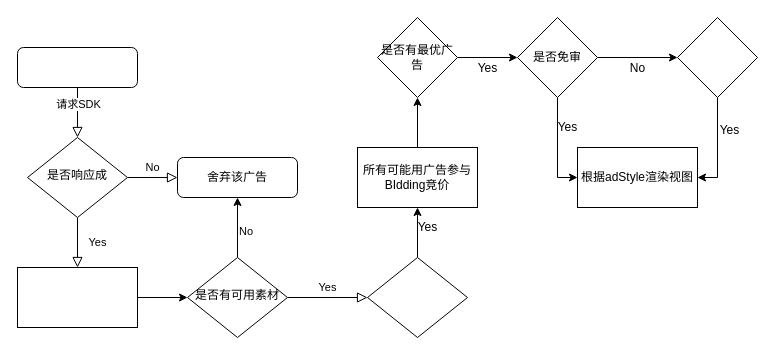
Some shapes in this 775 by 355 pixel diagram are drawn without their labels. The shapes that lost their labels are listed below. From the top down, each one's centre as x and y in pixels, then its label:
point (77, 67): 服务端返回京准通投放
point (717, 57): 审核是否成功
point (77, 297): 根据SDK返回素材与投放样式过滤素材
point (417, 297): 所有广告是否有SDK响应结果
